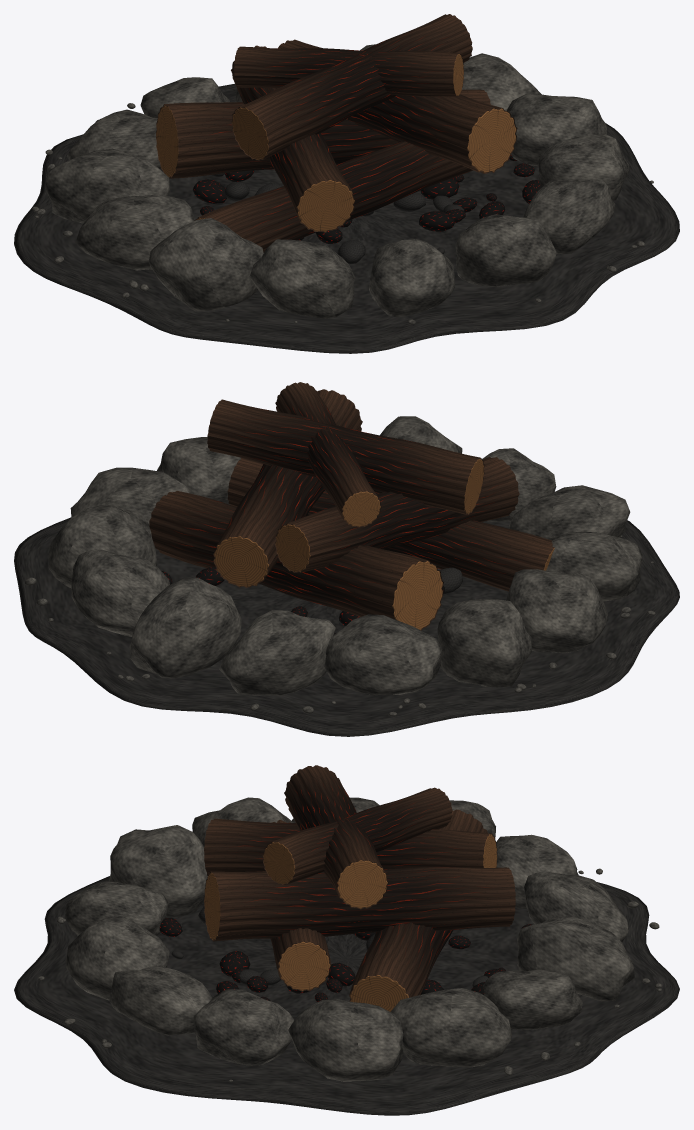
The model's file is hearth-fire-625ffa8f42ae.glb.
3 renders of one model, top to bottom at view 1: azimuth 30°, elevation 25°; view 2: azimuth 150°, elevation 25°; view 3: azimuth 270°, elevation 25°, orthographic.
Visible parts, largest first — view 1: Ash bed, Log.4, Log.0, RingStone.08, Log.1, Log.5, RingStone.09, Log.3, RingStone.11, RingStone.07, RingStone.06, RingStone.10 (+15 smaller); view 2: Ash bed, Log.4, Log.1, Log.2, RingStone.03, Log.0, RingStone.05, RingStone.04, RingStone.06, RingStone.07, Log.3, RingStone.02 (+13 smaller); view 3: Ash bed, Log.3, RingStone.00, RingStone.01, Log.2, RingStone.03, RingStone.09, Log.5, RingStone.13, Log.4, RingStone.11, RingStone.12 (+14 smaller).
Part boxes in pixels (x1,y1,x2,y2): Ash bed: (14,83,679,353); Log.4: (231,14,472,160); Log.0: (194,141,472,252); RingStone.08: (149,218,263,311); Log.1: (156,89,490,178); Log.5: (234,46,463,96); RingStone.09: (249,239,355,318); Log.3: (278,39,517,173); RingStone.11: (455,214,556,286); RingStone.07: (75,195,194,270); RingStone.06: (46,148,169,223); RingStone.10: (369,239,454,316); Ash bed: (14,517,679,736); Log.4: (207,399,484,514); Log.1: (149,491,443,630); Log.2: (275,457,519,572); RingStone.03: (129,577,241,678); Log.0: (227,458,554,591); RingStone.05: (324,614,442,695); RingStone.04: (219,610,335,695); RingStone.06: (437,599,531,687); RingStone.07: (506,569,607,653); Log.3: (213,389,362,587); RingStone.02: (71,549,169,636); Ash bed: (14,876,679,1115); Log.3: (204,867,515,941); RingStone.00: (288,999,403,1081); RingStone.01: (391,988,511,1067); Log.2: (204,818,497,875); RingStone.03: (517,916,634,1001); RingStone.09: (109,825,207,917); Log.5: (262,787,452,884); RingStone.13: (193,989,294,1065); Log.4: (284,765,388,909); RingStone.11: (65,915,169,1000); RingStone.12: (109,966,212,1035).
Size of the model in its own units: 3.03 by 0.8806 by 2.95.
5 materials, 5 textured.
